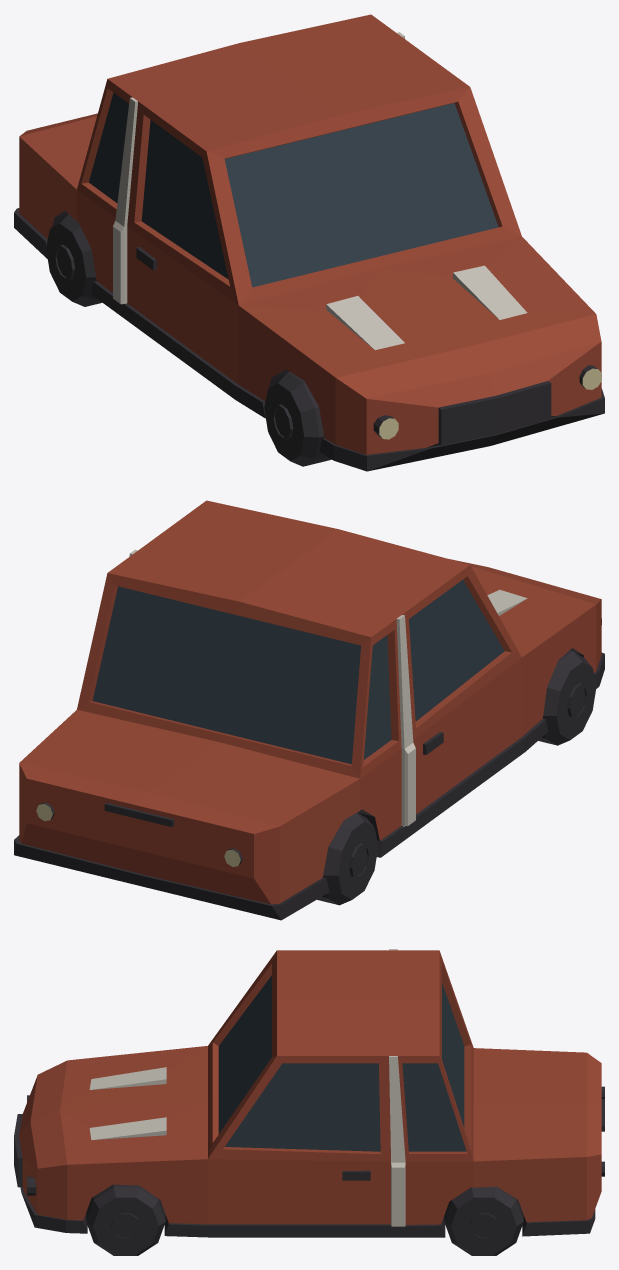
File: car_c.glb
3 views of the same model, one above another, from view 1: azimuth 30°, elevation 25°; view 2: azimuth 150°, elevation 25°; view 3: azimuth 270°, elevation 25° (orthographic). The views are drawn at different scales.
Parts seen in each view (by area): view 1: BackWheels; view 2: BackWheels; view 3: BackWheels.
Boxes of the visible parts, x1,y1,x2,y2 form: BackWheels: (14, 14, 604, 471); BackWheels: (14, 500, 604, 920); BackWheels: (14, 949, 604, 1255).
Bounding box in the file's own units: 2.01 × 1.58 × 4.2.
